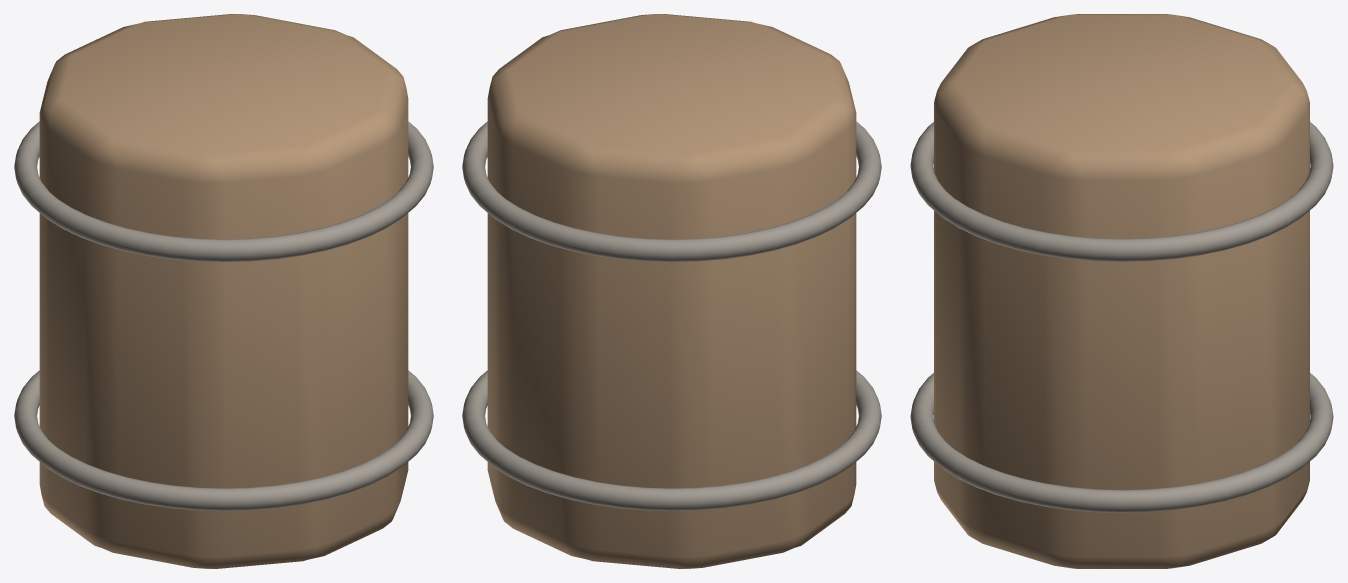
Rendered from barrel.glb.
3 views of the same model, side by side, from view 1: azimuth 30°, elevation 25°; view 2: azimuth 150°, elevation 25°; view 3: azimuth 270°, elevation 25° (orthographic).
Parts seen in each view (by area): view 1: Barrel, Band_0.48, Band_0.12; view 2: Barrel, Band_0.48, Band_0.12; view 3: Barrel, Band_0.12, Band_0.48.
Boxes of the visible parts, box(x1,y1,x2,y2) form: Barrel: box(39, 14, 408, 568); Band_0.48: box(14, 121, 433, 262); Band_0.12: box(14, 370, 433, 511); Barrel: box(487, 14, 856, 568); Band_0.48: box(462, 121, 881, 262); Band_0.12: box(462, 370, 881, 511); Barrel: box(934, 14, 1309, 568); Band_0.12: box(910, 373, 1333, 512); Band_0.48: box(910, 122, 1333, 261).
Bounding box in the file's own units: 0.55 × 0.6 × 0.55.
